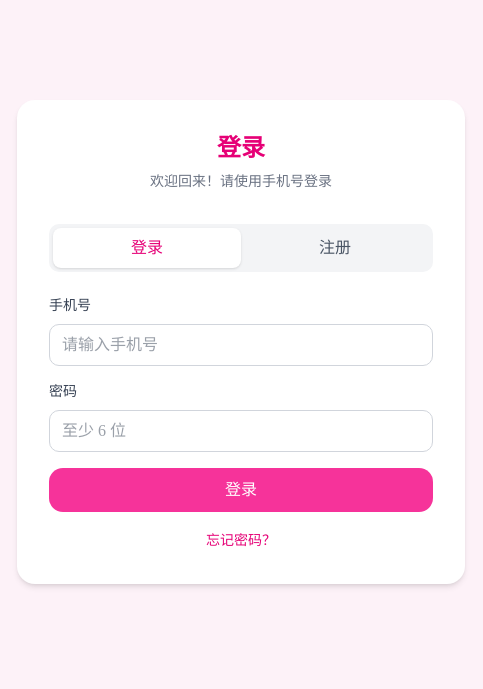
it: OnboardingPage › 注册时缺少用户名显示错误
Note:  切换到注册模式
Click the button "注册".
click(335, 248)  # box 241,228 -> 429,268
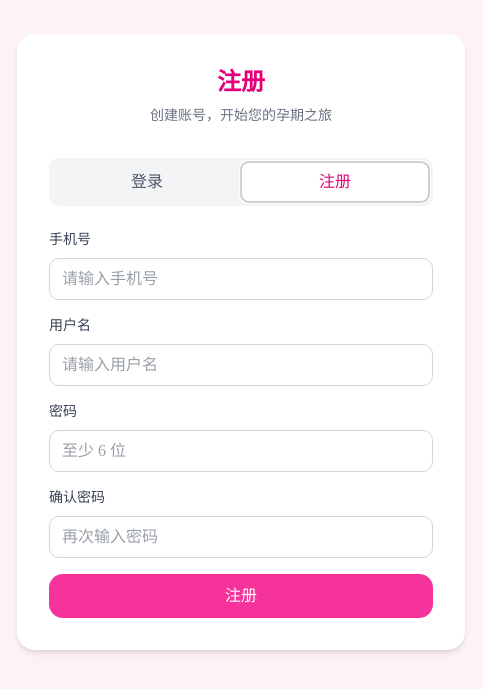
Note: 填写手机号和密码但不填用户名
Type "13800138000" into the field labelled "手机号".
click(241, 279); type("13800138000")  # box 49,258 -> 433,300
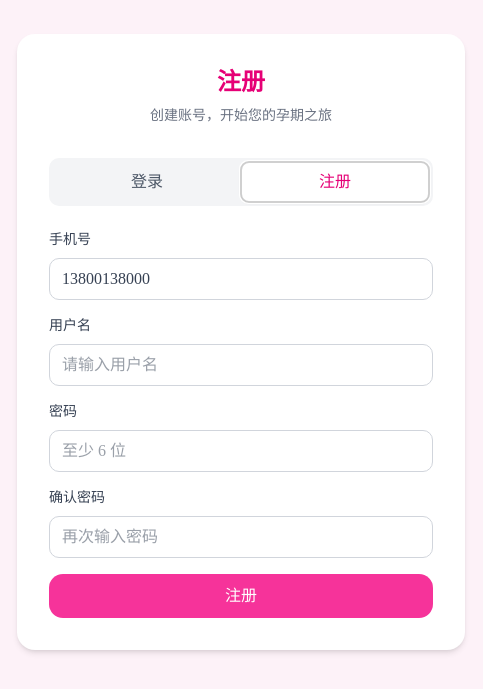
Type "password123" into the password field labelled "密码".
click(241, 451); type("password123")  # box 49,430 -> 433,472
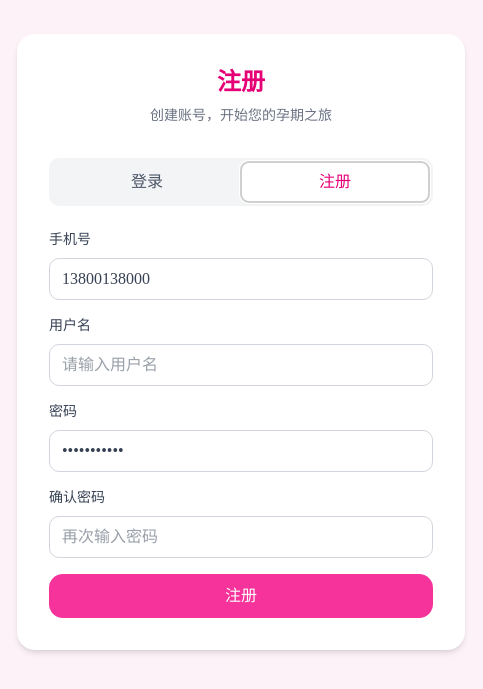
Type "password123" into the password field labelled "确认密码".
click(241, 537); type("password123")  # box 49,516 -> 433,558
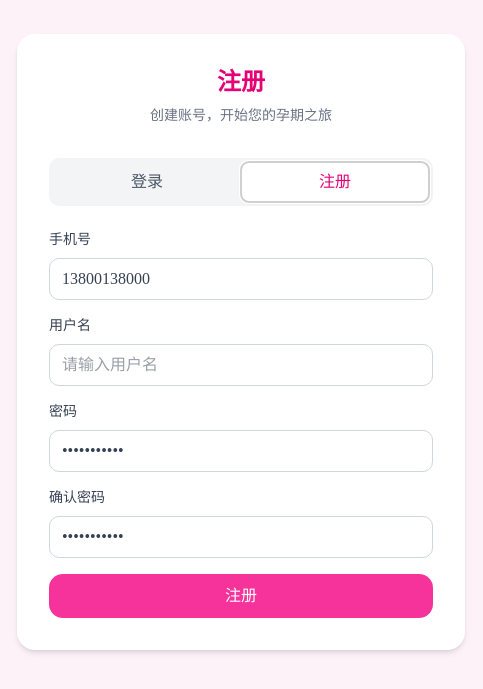
Note: 提交（选择 submit 类型的按钮，避免与 tab 按钮冲突）
Click the button "注册" below "确认密码".
click(241, 596)  # box 49,574 -> 433,618
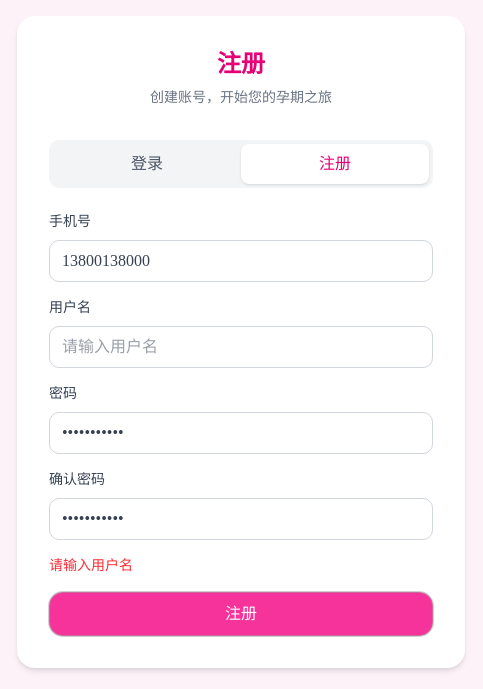
Expected: the message reads "请输入用户名", 49,558 -> 133,573
